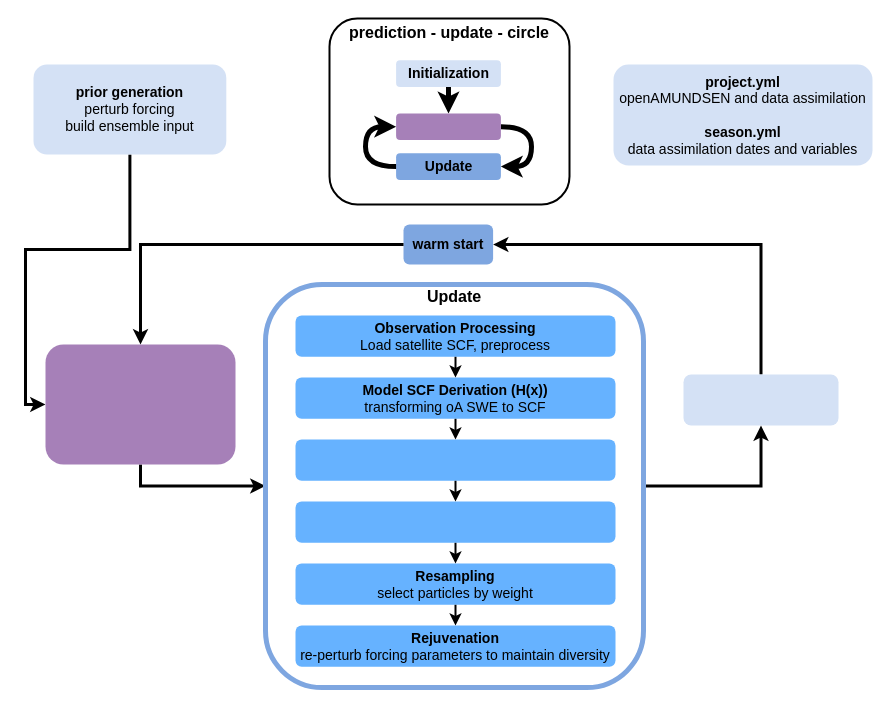
The diagram is 890 pixels wide and 707 high, and some of its shapes have lost their labels. The centre of each missing label's shape, as x and y in pixels:
"Gaussian Likelihood compare model vs satellite SCF" belongs at point 455,459.
"Importance Weighting normalize likelihoods, compute weights" belongs at point 455,521.
"posterior > new prior" belongs at point 760,399.
"Prediction" belongs at point 448,126.
"Prediction run openAMUNDSEN for each ensemble member" belongs at point 140,404.
